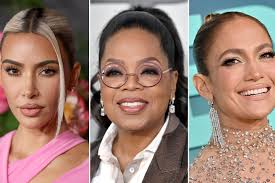face: (216, 40, 275, 114), (101, 56, 165, 123), (1, 57, 69, 119)
